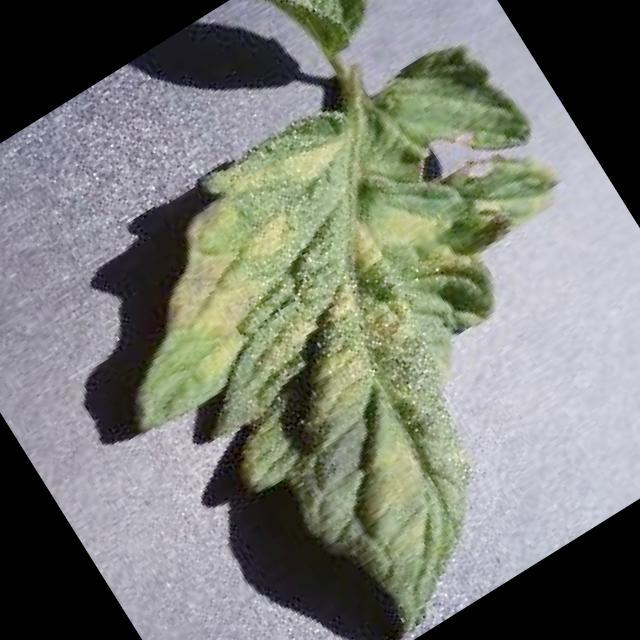Tomato healthy leaf: (45, 12, 640, 640)
